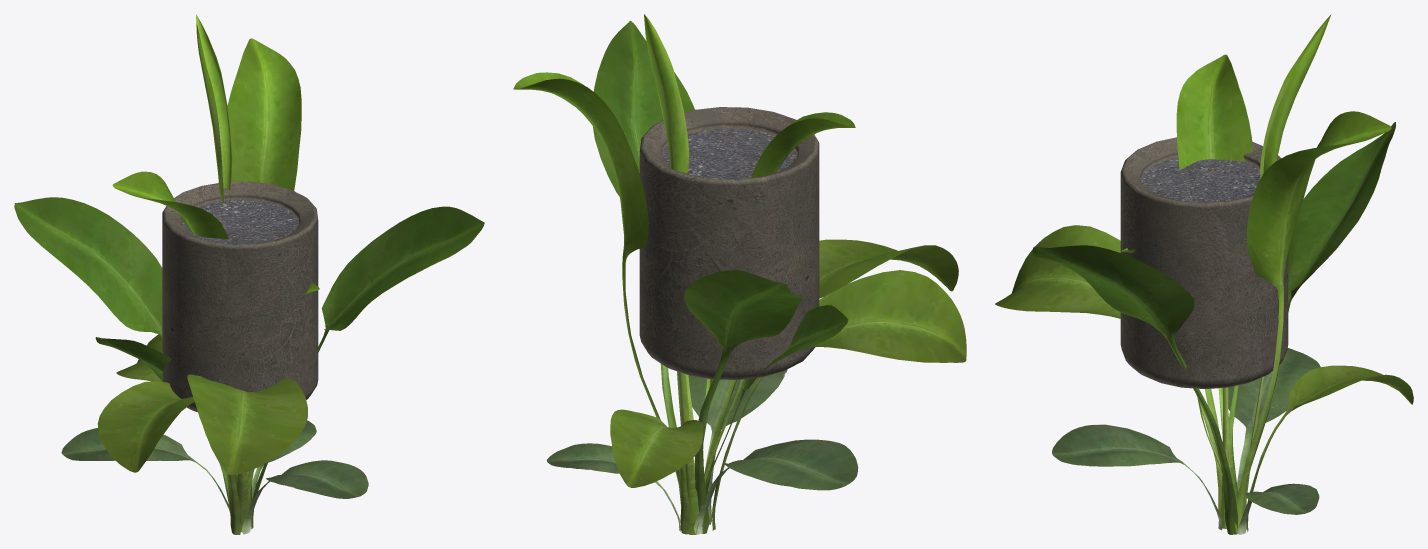
File: floor plant_1_processed.glb
The picture shows the model from 3 angles, left to right: view 1: azimuth 30°, elevation 25°; view 2: azimuth 150°, elevation 25°; view 3: azimuth 270°, elevation 25°; orthographic projection. The views are drawn at different scales.
Parts seen in each view (by area): view 1: plant, concrete_pot; view 2: plant, concrete_pot; view 3: plant, concrete_pot.
Part boxes in pixels (<box>): plant: <box>14,14,484,534</box>; concrete_pot: <box>162,181,318,412</box>; plant: <box>513,14,966,534</box>; concrete_pot: <box>639,107,819,379</box>; plant: <box>995,14,1413,534</box>; concrete_pot: <box>1120,137,1288,388</box>.
Bounding box in the file's own units: 31929 × 44456 × 32711.
Materials: 2 (2 with a texture image).
